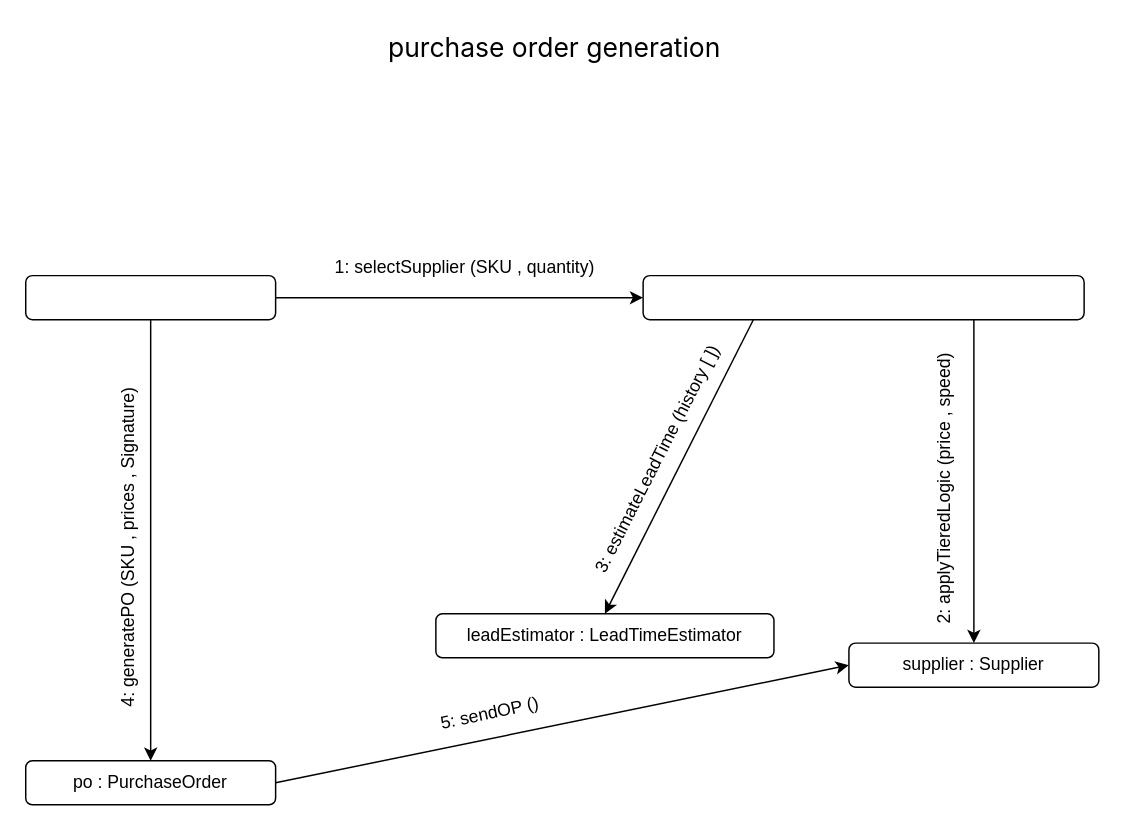
Some shapes in this 1125 by 831 pixel diagram are drawn without their labels. Each missing label, with the centre of its shape:
manager : Manager: [150,297]
supplierSelector : TieredSelector: [863,297]
